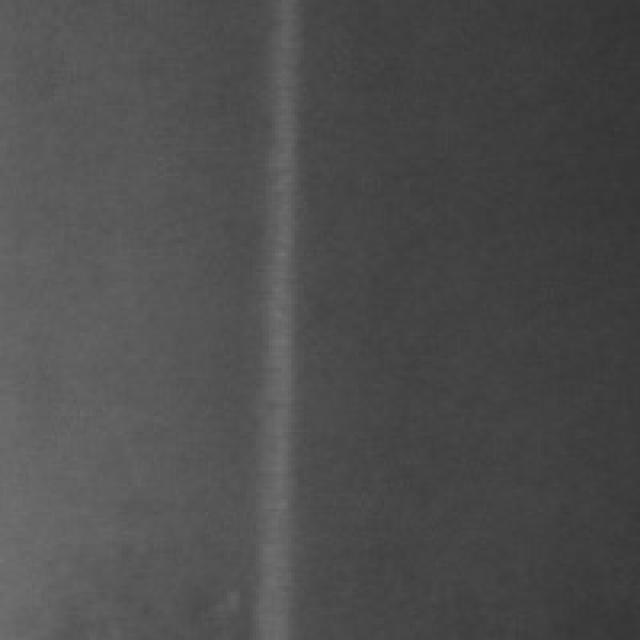scratches: (250, 41, 300, 598)
